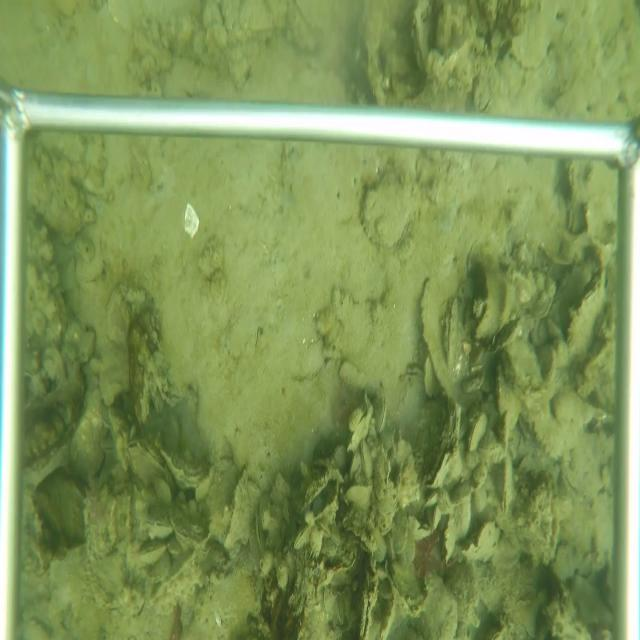Oyster-Closed: (360, 169, 417, 251), (565, 271, 608, 365), (423, 405, 463, 496), (121, 436, 178, 495), (162, 445, 211, 492), (457, 521, 502, 563), (441, 292, 459, 375), (493, 453, 515, 515), (466, 413, 489, 453), (440, 513, 457, 566), (134, 541, 167, 566), (142, 517, 173, 540), (374, 389, 388, 438), (359, 437, 374, 482), (254, 498, 265, 554), (431, 504, 441, 532)
Oyster-Indeterminate: (220, 468, 254, 552), (491, 364, 507, 417)
Oyster-Open: (298, 462, 342, 525), (355, 575, 380, 638)
